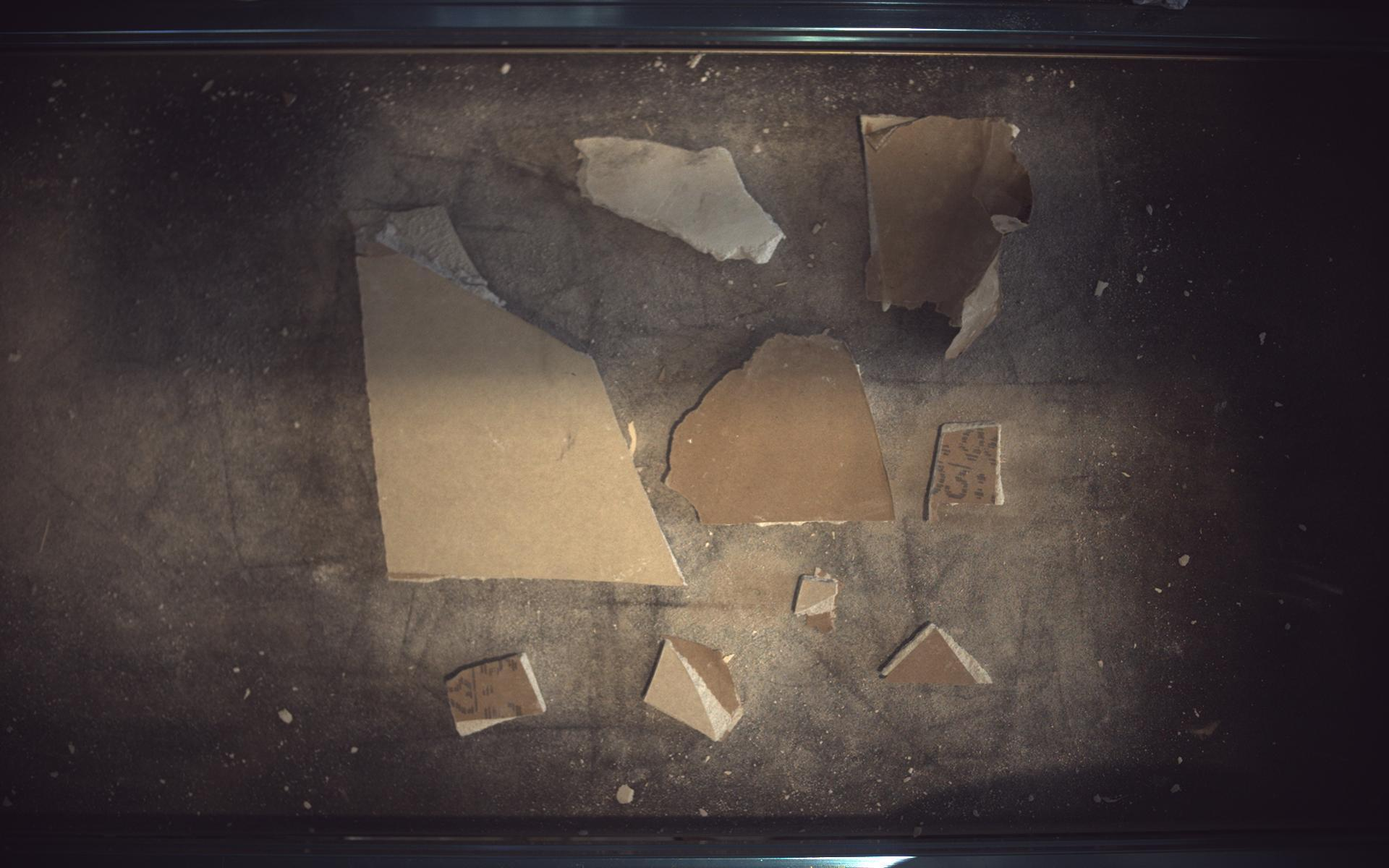gypsum_board: (352, 205, 685, 587), (667, 333, 896, 525), (862, 114, 1035, 359), (574, 135, 786, 263), (645, 637, 745, 742), (446, 654, 546, 738), (927, 422, 1006, 522), (882, 623, 995, 686), (794, 568, 843, 634)
